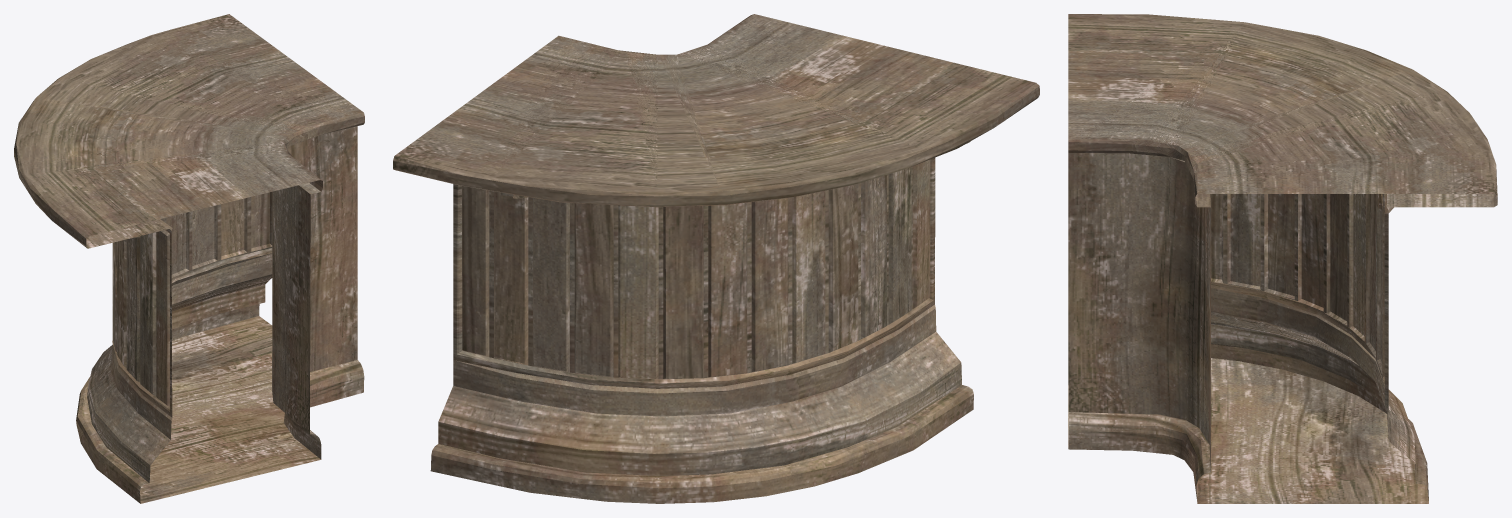
The model's file is SM_Counter_02.fbx.
3 renders of one model, left to right at view 1: azimuth 30°, elevation 25°; view 2: azimuth 150°, elevation 25°; view 3: azimuth 270°, elevation 25°, orthographic. The views are drawn at different scales.
Parts seen in each view (by area): view 1: SM_Counter_02_LOD0; view 2: SM_Counter_02_LOD0; view 3: SM_Counter_02_LOD0.
Part boxes in pixels (<box>): SM_Counter_02_LOD0: <box>14,14,364,503</box>; SM_Counter_02_LOD0: <box>393,14,1039,503</box>; SM_Counter_02_LOD0: <box>1068,14,1497,503</box>.
Bounding box in the file's own units: 119 × 119 × 95.13.
